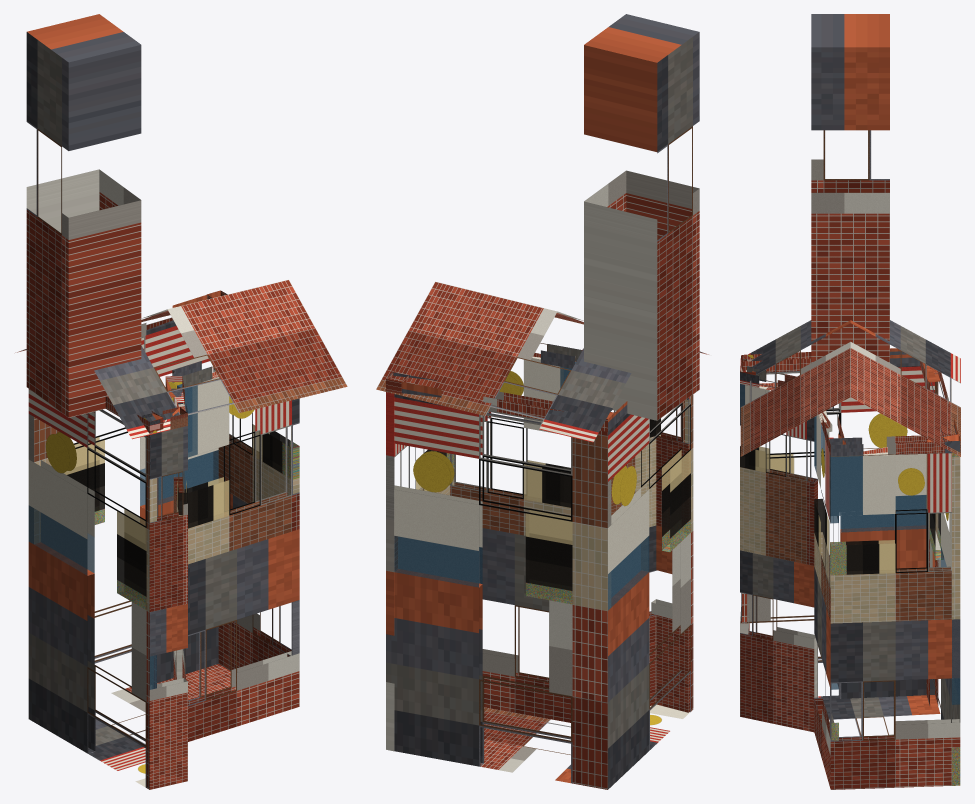
3 views of the same model, side by side, from view 1: azimuth 30°, elevation 25°; view 2: azimuth 150°, elevation 25°; view 3: azimuth 270°, elevation 25° (orthographic). The views are drawn at different scales.
Visible parts, largest first — view 1: 601806964__chimney_0_xb, 601806964__wall_0_xb, 601806964__wall_3_xb, 601806964_roof_-1_xb, 601806964__wall_1_xb, 601806964__wall_5_xb, 601806964__wall_4_xb, 601806964__wall_0_xf, 601806964__base, 601806964__wall_5_xf, 601806964__wall_3_xf, 601806964__wall_4_xf (+2 smaller); view 2: 601806964__wall_5_xb, 601806964__chimney_0_xb, 601806964__wall_0_xb, 601806964_roof_1_xb, 601806964__wall_3_xb, 601806964__wall_5_xf, 601806964__wall_1_xb, 601806964__wall_0_xf, 601806964__base, 601806964__wall_4_xb, 601806964__wall_2_xb, 601806964__cornice_5 (+2 smaller); view 3: 601806964__wall_4_xb, 601806964__chimney_0_xb, 601806964__wall_2_xb, 601806964__wall_0_xb, 601806964_roof_1_xb, 601806964_roof_-1_xb, 601806964__wall_3_xb, 601806964__wall_5_xb, 601806964__wall_4_xf, 601806964__base, 601806964__wall_0_xf, 601806964__cornice_4 (+6 smaller).
Boxes of the visible parts, x1,y1,x2,y2 form: 601806964__chimney_0_xb: (26,14,141,417); 601806964__wall_0_xb: (28,389,156,789); 601806964__wall_3_xb: (177,375,299,741); 601806964_roof_-1_xb: (94,279,347,439); 601806964__wall_1_xb: (149,426,187,789); 601806964__wall_5_xb: (28,320,218,682); 601806964__wall_4_xb: (213,367,299,670); 601806964__wall_0_xf: (29,506,156,689); 601806964__base: (88,664,230,787); 601806964__wall_5_xf: (65,437,218,524); 601806964__wall_3_xf: (177,384,228,527); 601806964__wall_4_xf: (253,425,299,478); 601806964__wall_5_xb: (386,394,611,789); 601806964__chimney_0_xb: (584,14,699,420); 601806964__wall_0_xb: (608,395,693,789); 601806964_roof_1_xb: (376,281,631,442); 601806964__wall_3_xb: (450,356,575,722); 601806964__wall_5_xf: (394,456,572,603); 601806964__wall_1_xb: (651,397,690,712); 601806964__wall_0_xf: (608,450,690,609); 601806964__base: (480,704,689,783); 601806964__wall_4_xb: (386,392,454,751); 601806964__wall_2_xb: (611,410,660,705); 601806964__cornice_5: (387,372,614,431); 601806964__wall_4_xb: (830,452,960,789); 601806964__chimney_0_xb: (811,14,889,362); 601806964__wall_2_xb: (740,384,817,732); 601806964__wall_0_xb: (741,365,934,698); 601806964_roof_1_xb: (850,320,960,456); 601806964_roof_-1_xb: (740,320,850,456); 601806964__wall_3_xb: (814,411,838,788); 601806964__wall_5_xb: (926,368,960,785); 601806964__wall_4_xf: (830,456,895,574); 601806964__base: (818,695,940,736); 601806964__wall_0_xf: (741,454,926,618); 601806964__cornice_4: (829,434,960,456).
Bounding box in the file's own units: 0.4973 × 1.4 × 0.421.
1 material, 1 textured.
